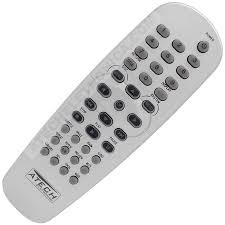remote control: (0, 1, 225, 225)
